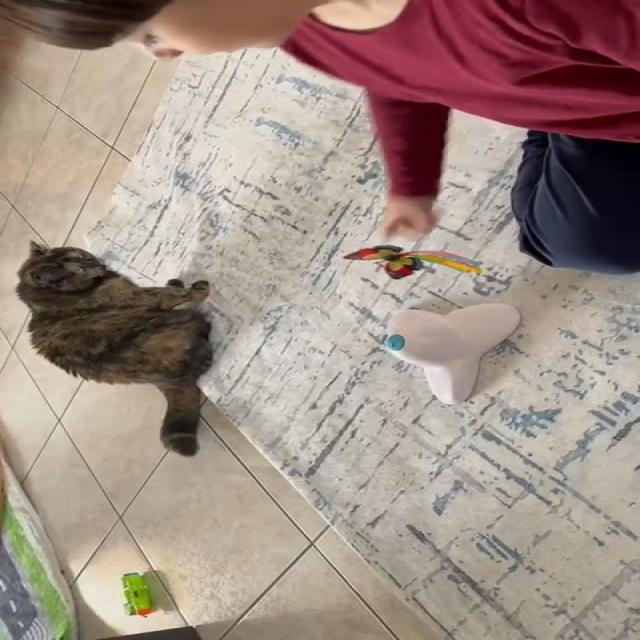authorized: (13, 239, 215, 457)
